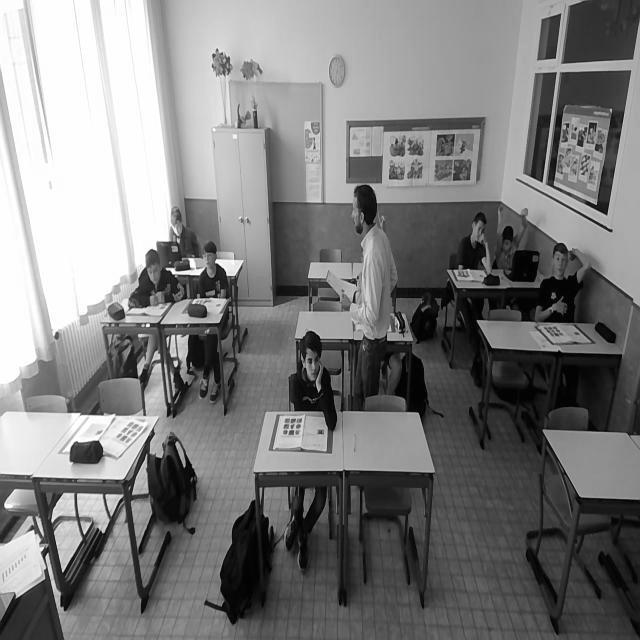Looking away: (351, 190, 369, 234), (468, 210, 488, 242), (169, 205, 185, 238), (202, 242, 217, 271)
Looking forward: (300, 332, 325, 381)
Raising hand: (534, 242, 587, 334), (492, 202, 534, 272)
Reading-writing: (130, 249, 187, 310)
